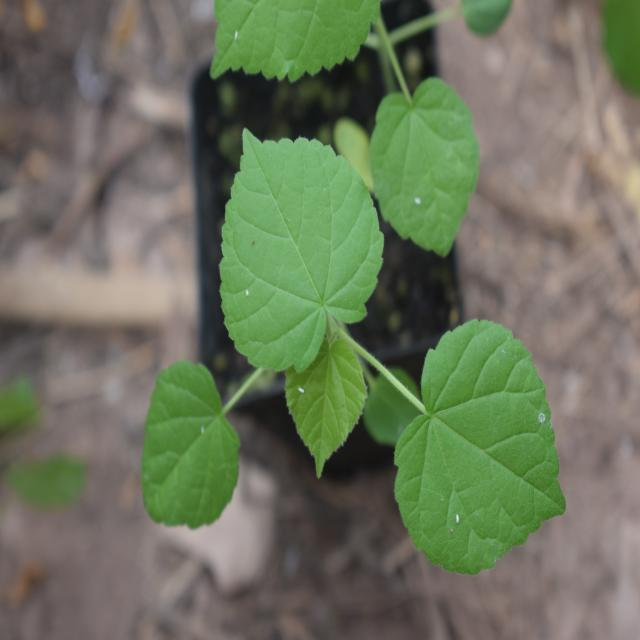abutilon theophrasti: (146, 128, 556, 574)
